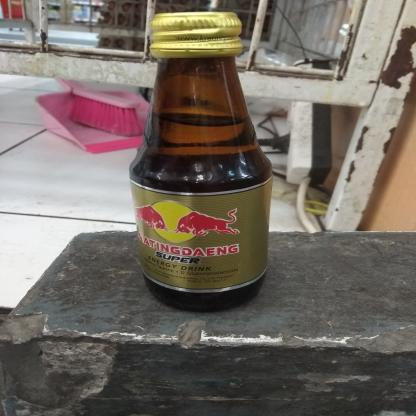bottle: (129, 8, 276, 314)
